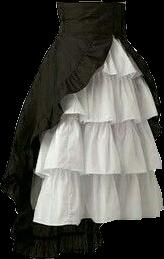Hemline: (0, 38, 112, 187), (118, 35, 162, 139), (30, 207, 163, 226), (29, 166, 162, 179), (60, 111, 157, 124), (97, 70, 142, 79)
Waistline: (54, 0, 125, 4), (58, 32, 125, 36)
